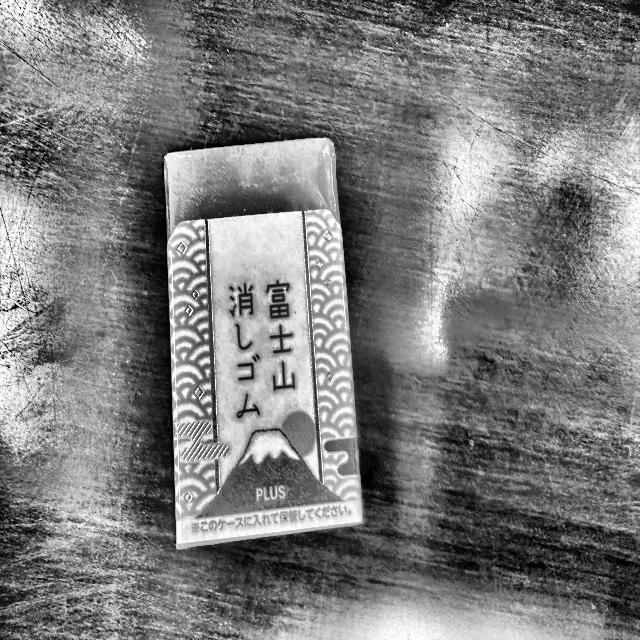eraser: (162, 134, 365, 556)
